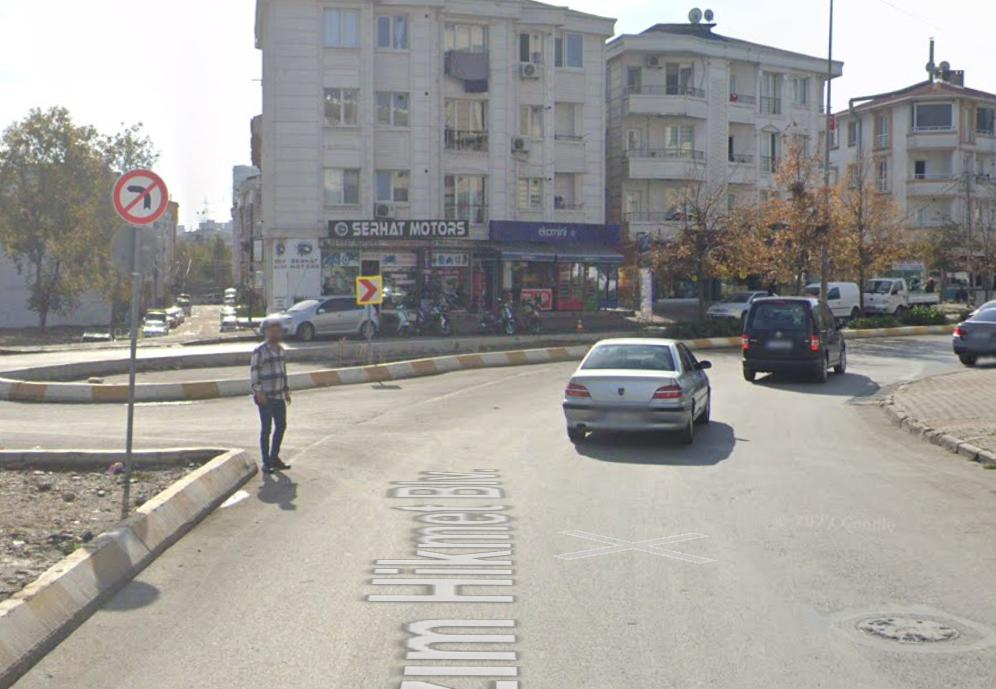leftturnsareforbidden: (113, 166, 168, 224)
